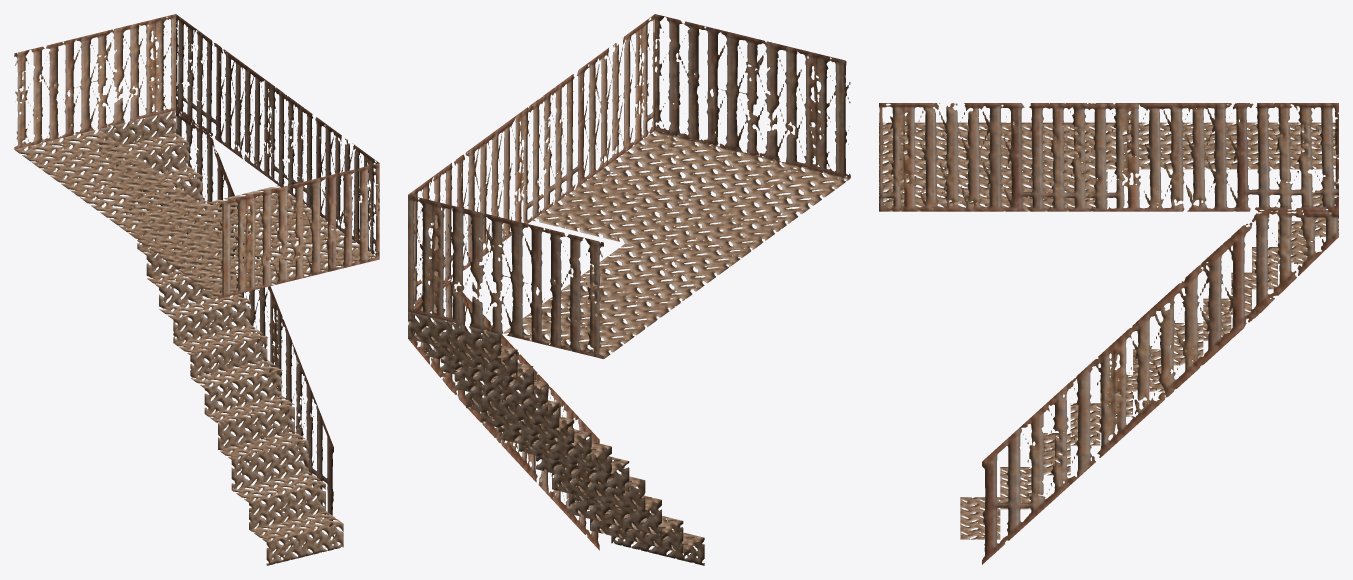
File: fireescape.fbx
3 views of the same model, side by side, from view 1: azimuth 30°, elevation 25°; view 2: azimuth 150°, elevation 25°; view 3: azimuth 270°, elevation 25° (orthographic). The views are drawn at different scales.
Parts seen in each view (by area): view 1: polySurface1; view 2: polySurface1; view 3: polySurface1.
Part boxes in pixels (x1,y1,x2,y2): polySurface1: [14, 14, 379, 565]; polySurface1: [408, 14, 850, 565]; polySurface1: [879, 103, 1338, 564].
Bounding box in the file's own units: 22.14 × 53.71 × 48.35.
1 material, 1 textured.
